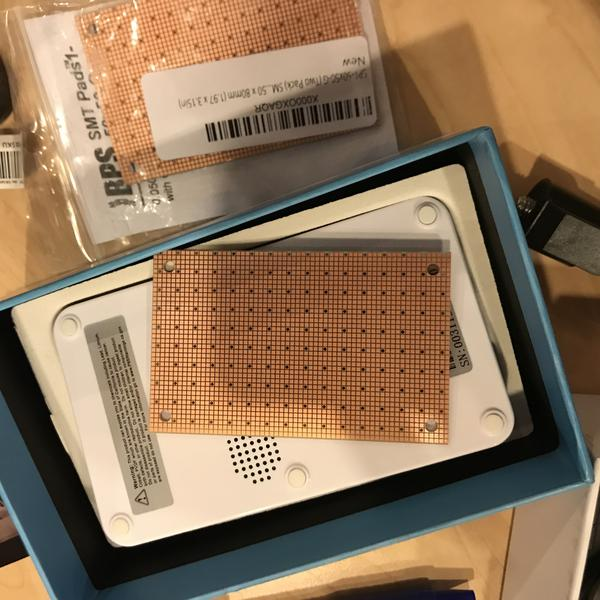board: (148, 248, 453, 446)
